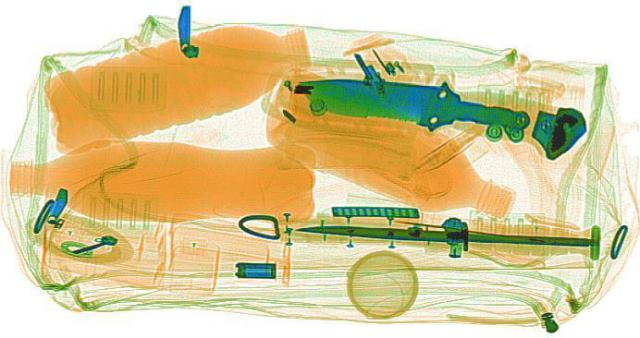Knife: (282, 64, 544, 139), (290, 207, 596, 260)
